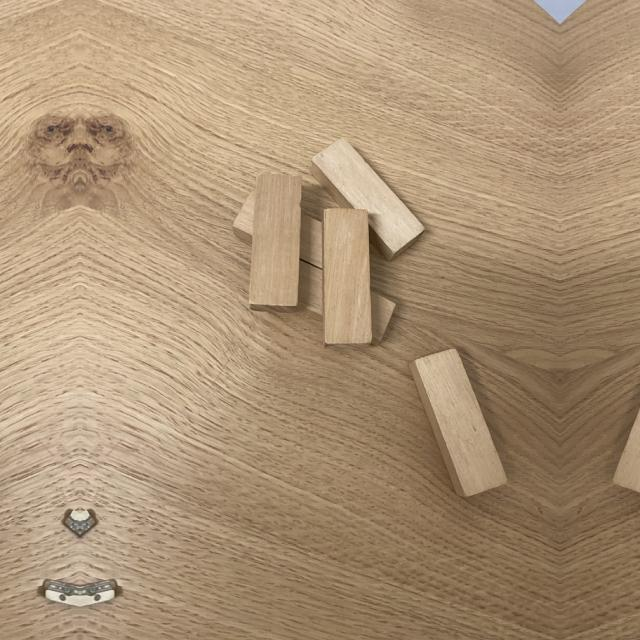jenga: (407, 348, 513, 500), (310, 135, 425, 262), (298, 260, 394, 342), (249, 172, 302, 305), (324, 209, 370, 349), (302, 208, 324, 267), (234, 189, 254, 247)
